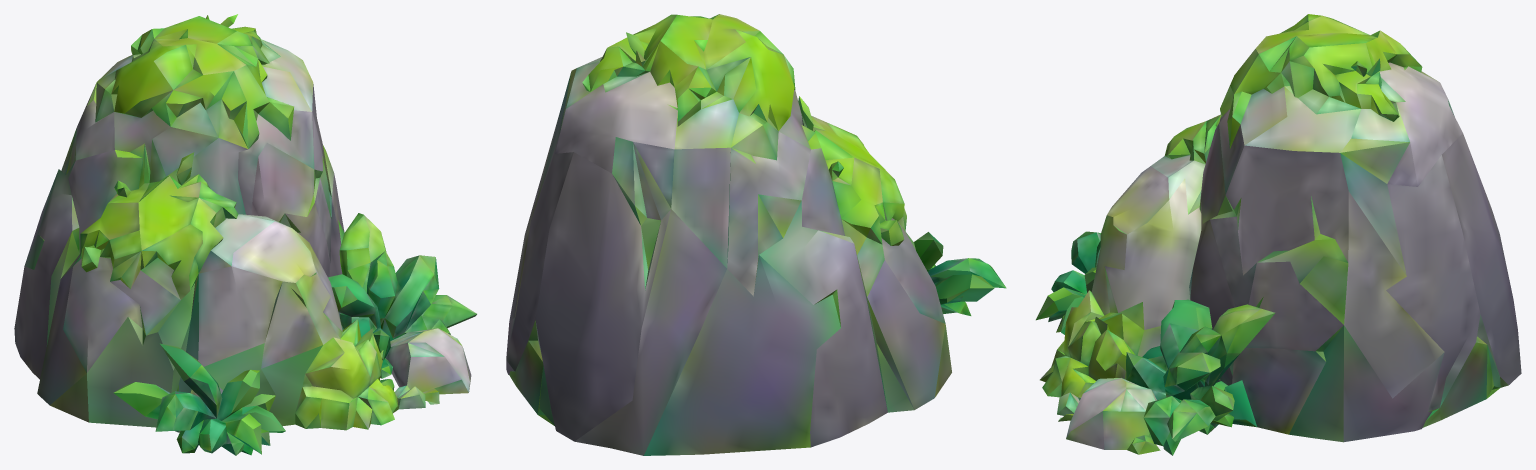
File: mossy-rocks.glb
The picture shows the model from 3 angles, left to right: view 1: azimuth 30°, elevation 25°; view 2: azimuth 150°, elevation 25°; view 3: azimuth 270°, elevation 25°; orthographic projection. The views are drawn at different scales.
Visible parts, largest first — view 1: output_unwrapped; view 2: output_unwrapped; view 3: output_unwrapped.
Boxes of the visible parts, box(x1,y1,x2,y2) form: output_unwrapped: box(14, 14, 476, 455); output_unwrapped: box(506, 14, 1006, 455); output_unwrapped: box(1036, 14, 1521, 455).
Bounding box in the file's own units: 1.86 × 1.43 × 1.9.
Materials: 1 (1 with a texture image).
